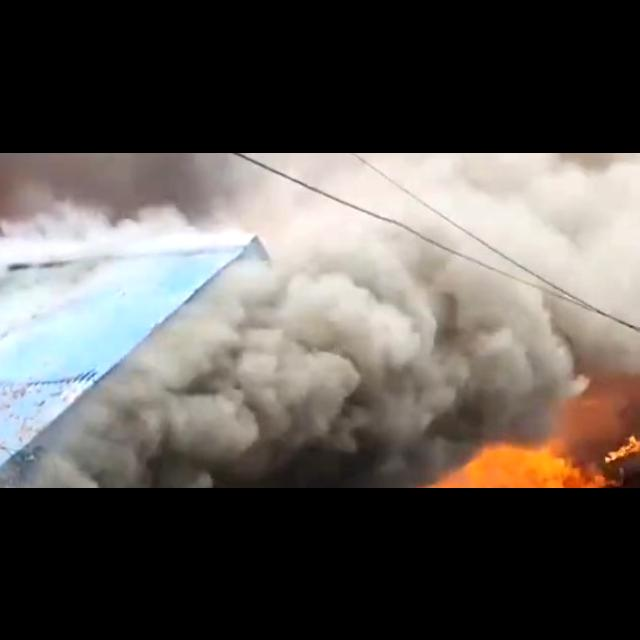fire: (423, 442, 602, 488)
smoke: (162, 272, 455, 477), (292, 152, 435, 220)
